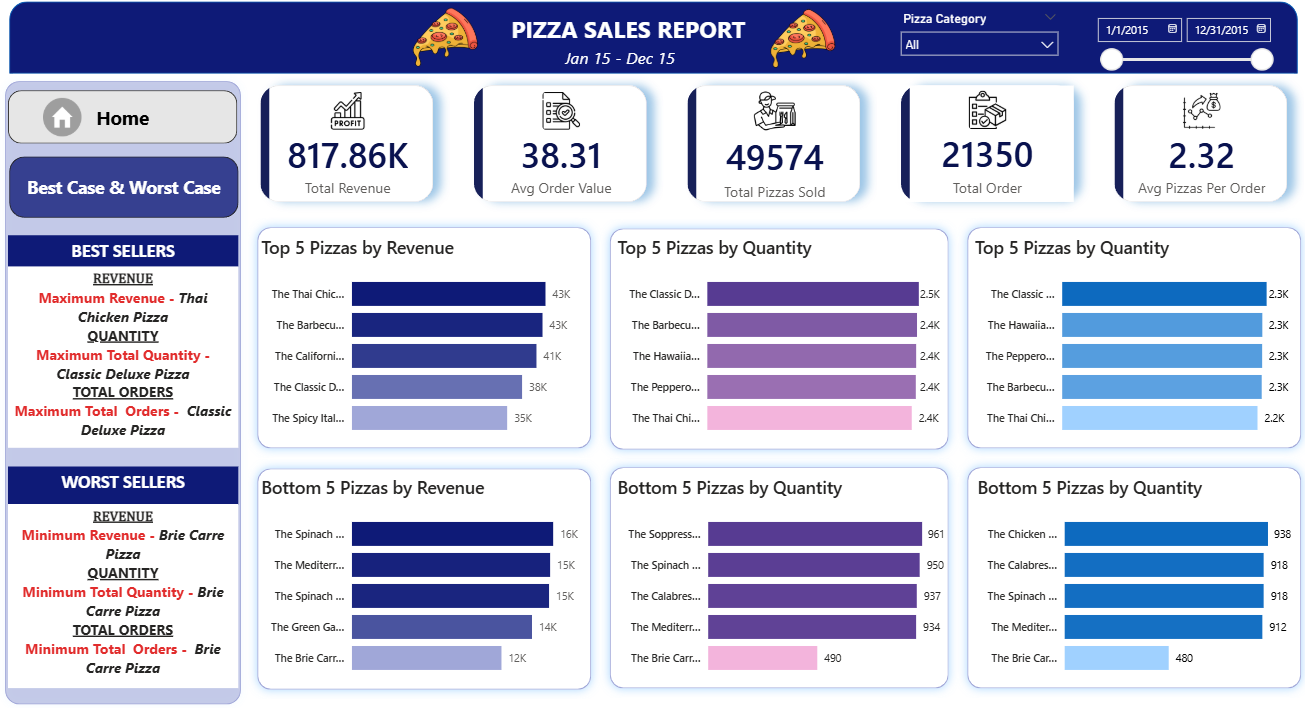

What the dashboard file says about the page in this screenshot:
{"tool":"powerbi","page":{"name":"Best Case & Worst Case","canvas":[1500,820],"ordinal":1},"visuals":[{"type":"cardVisual","fields":{"Data":["pizza_sales.Total Revenue","pizza_sales.Avg Order Value","pizza_sales.Total Pizzas Sold","pizza_sales.Total Order","pizza_sales.Avg Pizzas Per Order"]},"box":[276.2,80,1223.8,182.5],"z":0},{"type":"shape","box":[12.5,8.8,1472.5,82.5],"z":1000},{"type":"textbox","box":[581,17.2,337.9,50],"z":2000},{"type":"textbox","box":[643.1,55.2,146.6,36.2],"z":3000},{"type":"image","box":[472.9,5.7,77.1,87.1],"z":4000},{"type":"shape","box":[285.7,255.7,402.9,274.3],"z":5000},{"type":"shape","box":[0,91.4,285.7,728.6],"z":6000},{"type":"textbox","box":[11.4,275.7,262.9,35.7],"z":7000},{"type":"textbox","box":[11.4,311.4,262.9,207.1],"z":8000},{"type":"slicer","fields":{"Values":["pizza_sales.pizza_category"]},"box":[1021.4,14.3,200,71.4],"z":9000},{"type":"slicer","fields":{"Values":["pizza_sales.order_date"]},"box":[1244.3,17.1,221.4,71.4],"z":10000},{"type":"shape","box":[688.6,257.1,408.6,274.3],"z":11000},{"type":"shape","box":[1097.1,255.7,402.9,274.3],"z":12000},{"type":"shape","box":[285.7,531.4,402.9,274.3],"z":13000},{"type":"shape","box":[688.6,530,408.6,274.3],"z":14000},{"type":"shape","box":[1097.1,530,402.9,274.3],"z":15000},{"type":"barChart","title":"Top 5 Pizzas by Revenue","fields":{"Category":["pizza_sales.pizza_name"],"Y":["pizza_sales.Total Revenue"]},"box":[295.7,275.7,384.3,242.9],"z":16000},{"type":"barChart","title":"Bottom 5 Pizzas by Revenue","fields":{"Category":["pizza_sales.pizza_name"],"Y":["pizza_sales.Total Revenue"]},"box":[295.7,550,384.3,242.9],"z":17000},{"type":"barChart","title":"Top 5 Pizzas by Quantity","fields":{"Category":["pizza_sales.pizza_name"],"Y":["pizza_sales.Total Pizzas Sold"]},"box":[702.9,275.7,378.6,242.9],"z":18000},{"type":"barChart","title":"Bottom 5 Pizzas by Quantity","fields":{"Category":["pizza_sales.pizza_name"],"Y":["pizza_sales.Total Pizzas Sold"]},"box":[702.9,550,384.3,242.9],"z":19000},{"type":"barChart","title":"Top 5 Pizzas by Quantity","fields":{"Category":["pizza_sales.pizza_name"],"Y":["pizza_sales.Total Order"]},"box":[1111.4,275.7,368.6,242.9],"z":20000},{"type":"barChart","title":"Bottom 5 Pizzas by Quantity","fields":{"Category":["pizza_sales.pizza_name"],"Y":["pizza_sales.Total Order"]},"box":[1114.3,550,368.6,242.9],"z":21000},{"type":"textbox","box":[11.4,540,262.9,42.9],"z":22000},{"type":"textbox","box":[11.4,582.9,262.9,210],"z":23000},{"type":"pageNavigator","box":[11.4,110,262.9,61.4],"z":24000},{"type":"pageNavigator","box":[12.9,185.7,262.9,70],"z":25000},{"type":"image","box":[51.4,117.1,44.3,47.1],"z":26000},{"type":"image","box":[881.4,7.1,77.1,87.1],"z":26001}]}

Visuals, with their boxes in screenshot pixels (x1, y1, x2, y2), scaled from the page's 1500x820 canvas onto the 1305x708 screenshot:
cardVisual - pizza_sales.Total Revenue x pizza_sales.Avg Order Value: l=240, t=69, r=1304, b=227
shape: l=11, t=8, r=1292, b=79
textbox: l=505, t=15, r=799, b=58
textbox: l=559, t=48, r=687, b=79
image: l=411, t=5, r=478, b=80
shape: l=249, t=221, r=599, b=458
shape: l=0, t=79, r=249, b=707
textbox: l=10, t=238, r=239, b=269
textbox: l=10, t=269, r=239, b=448
slicer - pizza_sales.pizza_category: l=889, t=12, r=1063, b=74
slicer - pizza_sales.order_date: l=1083, t=15, r=1275, b=76
shape: l=599, t=222, r=955, b=459
shape: l=954, t=221, r=1304, b=458
shape: l=249, t=459, r=599, b=696
shape: l=599, t=458, r=955, b=694
shape: l=954, t=458, r=1304, b=694
"Top 5 Pizzas by Revenue" barChart: l=257, t=238, r=592, b=448
"Bottom 5 Pizzas by Revenue" barChart: l=257, t=475, r=592, b=685
"Top 5 Pizzas by Quantity" barChart: l=612, t=238, r=941, b=448
"Bottom 5 Pizzas by Quantity" barChart: l=612, t=475, r=946, b=685
"Top 5 Pizzas by Quantity" barChart: l=967, t=238, r=1288, b=448
"Bottom 5 Pizzas by Quantity" barChart: l=969, t=475, r=1290, b=685
textbox: l=10, t=466, r=239, b=503
textbox: l=10, t=503, r=239, b=685
pageNavigator: l=10, t=95, r=239, b=148
pageNavigator: l=11, t=160, r=240, b=221
image: l=45, t=101, r=83, b=142
image: l=767, t=6, r=834, b=81
